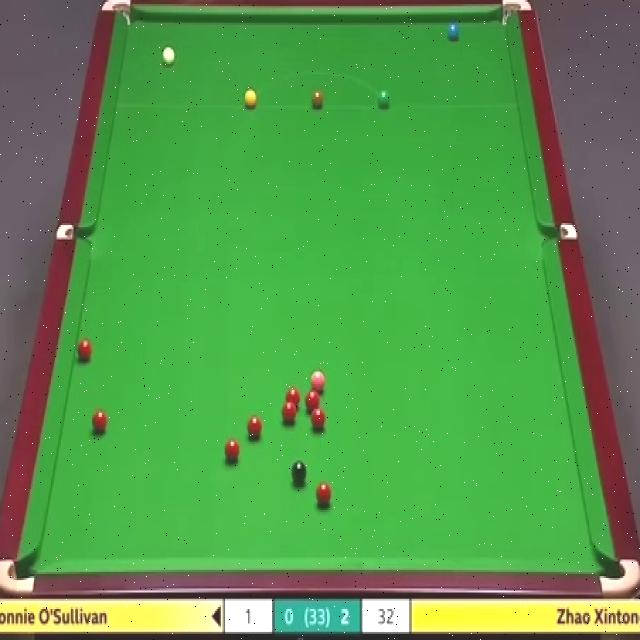black-ball: (291, 460, 308, 485)
blue-ball: (446, 20, 459, 42)
brown-ball: (311, 89, 325, 109)
green-ball: (376, 89, 392, 110)
pink-ball: (310, 368, 327, 393)
red-ball: (280, 401, 298, 425), (92, 406, 107, 434), (224, 438, 241, 462), (310, 406, 326, 431), (306, 389, 321, 415), (246, 414, 262, 438), (77, 339, 93, 362), (286, 386, 302, 408), (317, 482, 331, 504)
white-ball: (162, 46, 175, 66)
yellow-ball: (243, 88, 258, 109)
